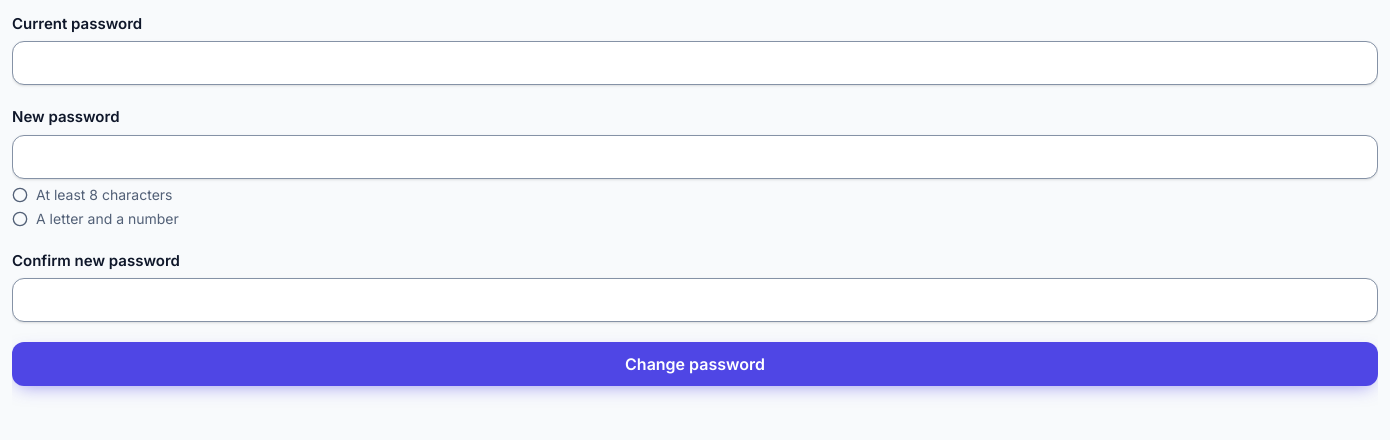
ChangePasswordForm › the confirm field must match; nothing is sent otherwise
In the password field with test id "change-password-current-input": (695, 63) [12,41,1378,85], type "Sunrise2026x"
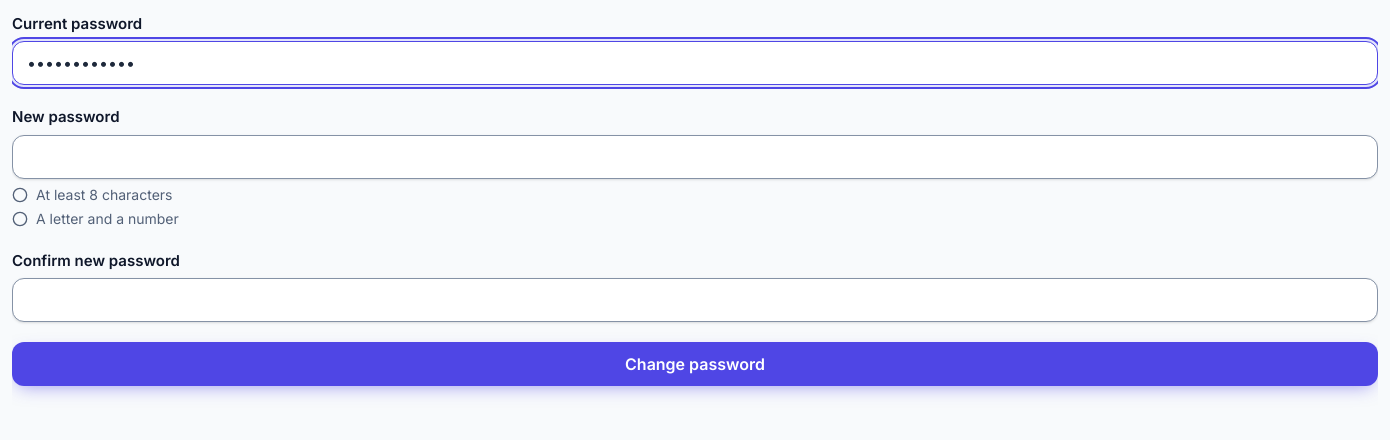
In the password field with test id "change-password-new-input": (695, 156) [12,134,1378,178], type "Moonrise2027y"
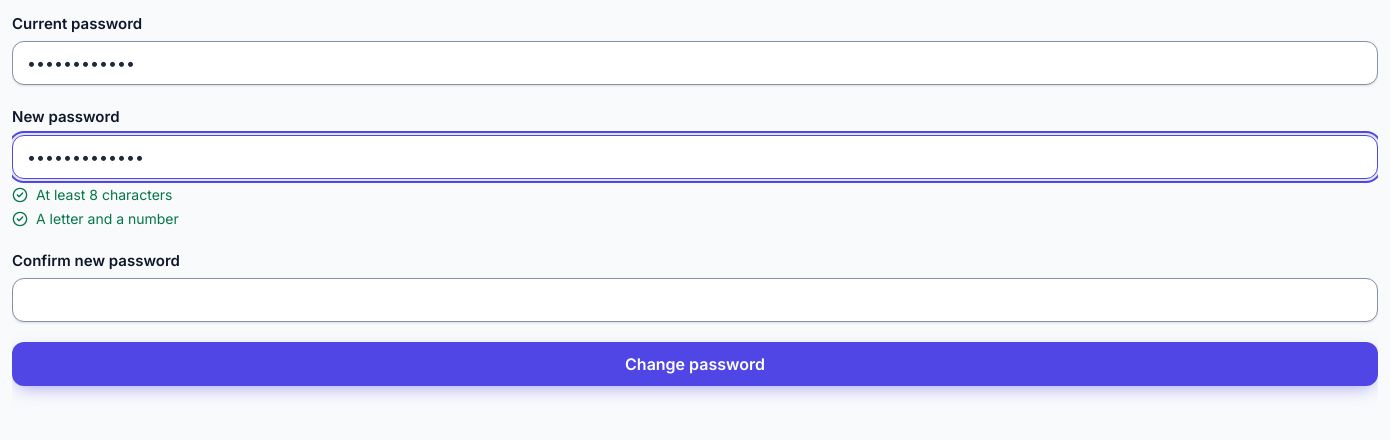
In the password field with test id "change-password-confirm-input": (695, 300) [12,278,1378,322], type "Moonrise2027z"
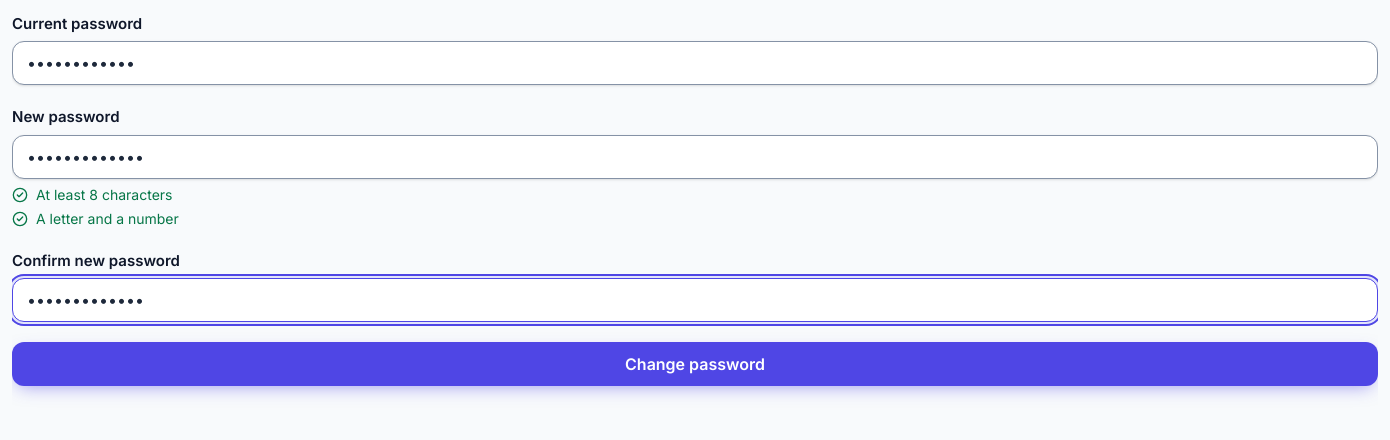
Click the button with test id "change-password-submit-button": (695, 364) [12,342,1378,386]
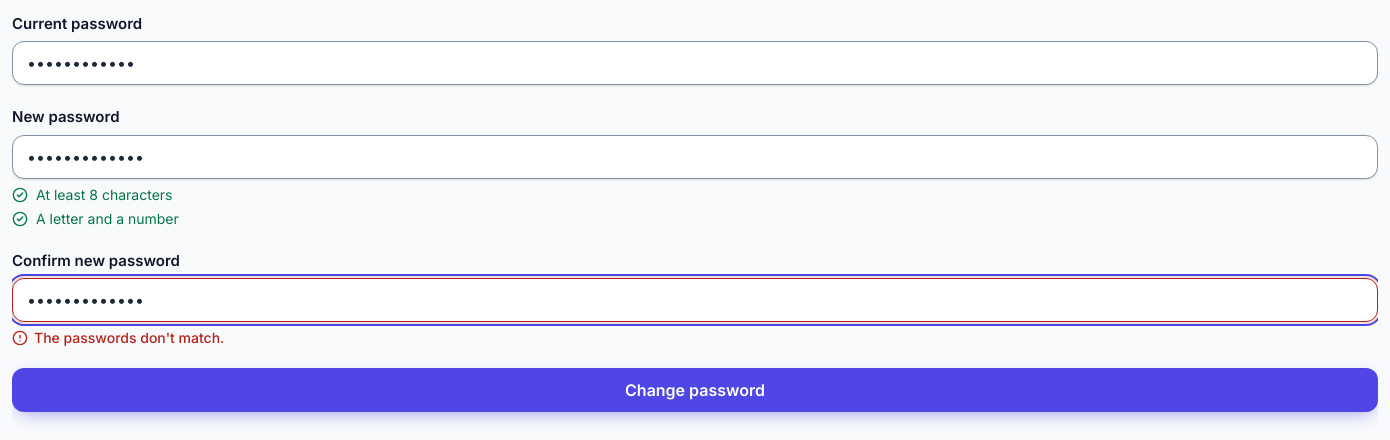
Result: the element with test id "confirmPassword-error" shows "don't match" at [34,329,224,346]
